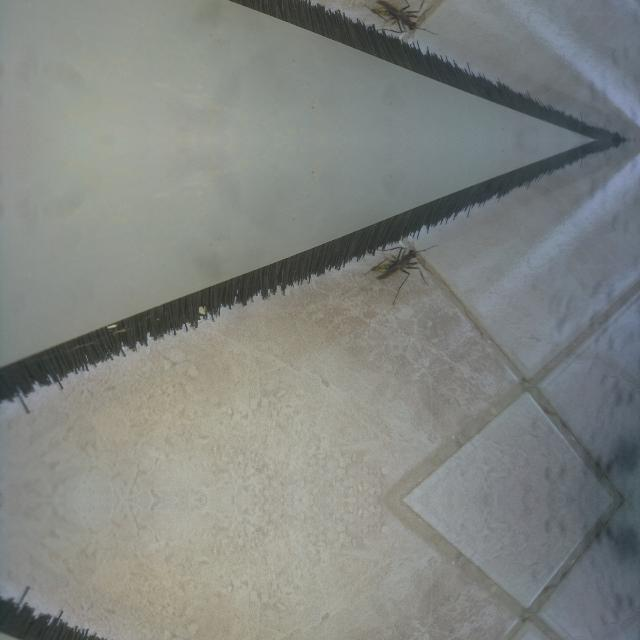Cataglyphis: (357, 238, 443, 288), (357, 0, 443, 40)
